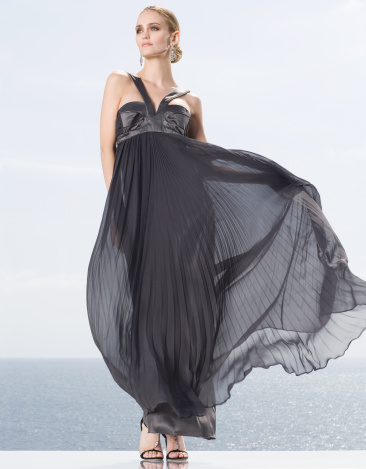em pe: (78, 0, 254, 454)
